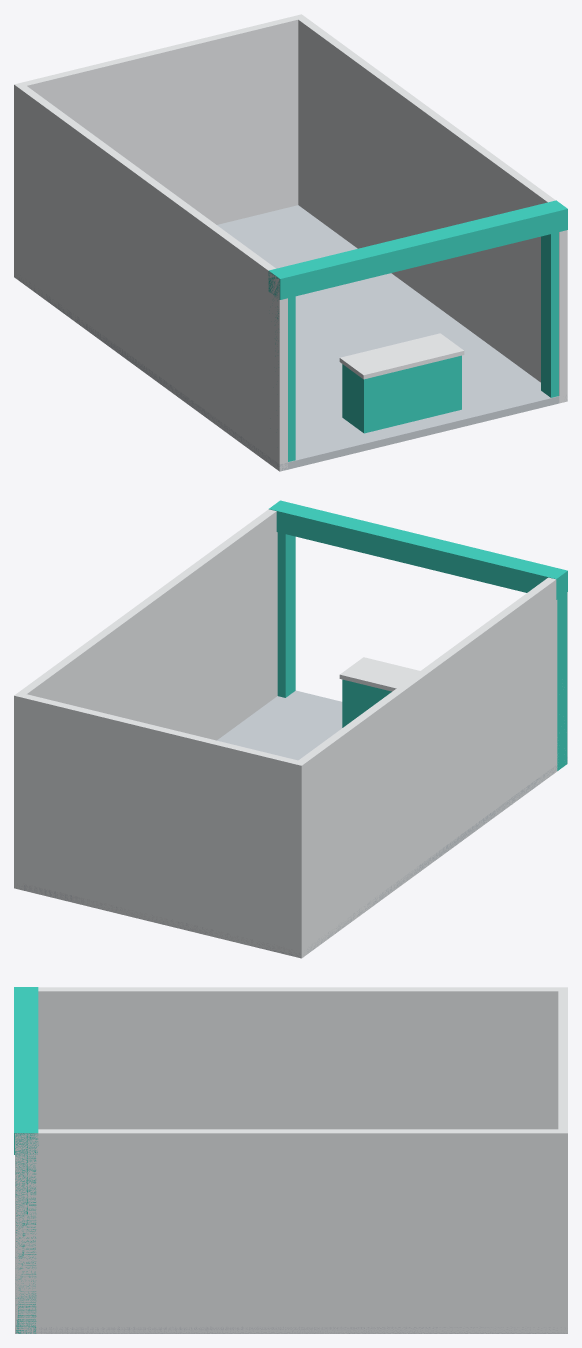
The picture shows the model from 3 angles, top to bottom: view 1: azimuth 30°, elevation 25°; view 2: azimuth 150°, elevation 25°; view 3: azimuth 270°, elevation 25°; orthographic projection. The views are drawn at different scales.
Visible parts, largest first — view 1: Exhibition Booth Concept; view 2: Exhibition Booth Concept; view 3: Exhibition Booth Concept.
Part boxes in pixels (x1=…): Exhibition Booth Concept: x1=14, y1=14, x2=567, y2=471; Exhibition Booth Concept: x1=14, y1=500, x2=567, y2=958; Exhibition Booth Concept: x1=14, y1=987, x2=567, y2=1333.
Bounding box in the file's own units: 5 × 3.2 × 8.01.
